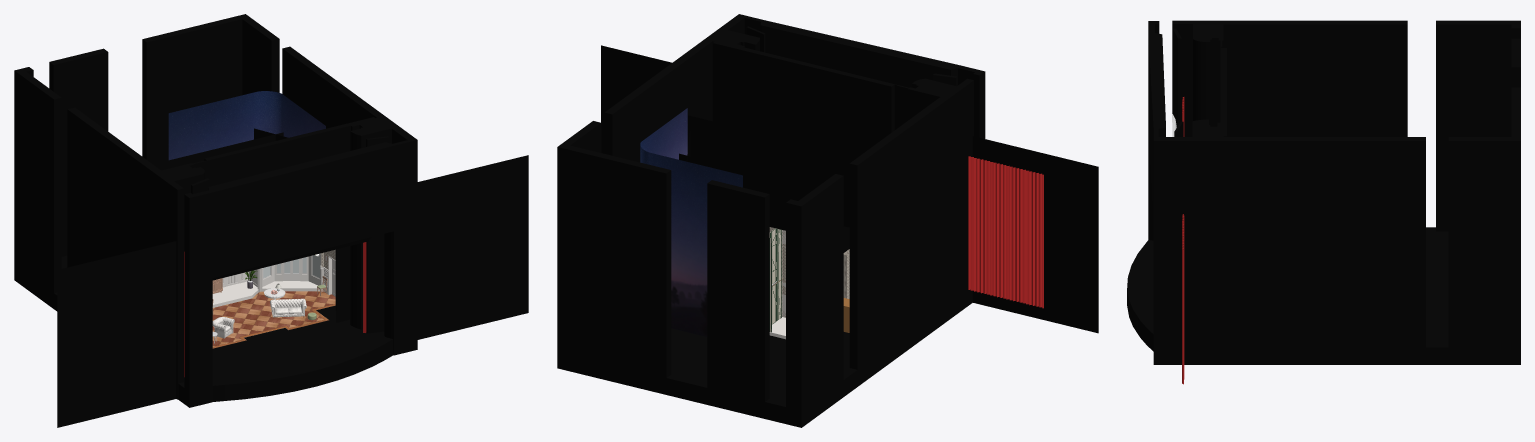
Rendered from Theater.glb.
3 renders of one model, left to right at view 1: azimuth 30°, elevation 25°; view 2: azimuth 150°, elevation 25°; view 3: azimuth 270°, elevation 25°, orthographic. The views are drawn at different scales.
Visible parts, largest first — view 1: Theater_Shell-col, Room_Structure-col, Stage_Floor-col, Backdrop_Courtyard, Room_Floor-col, Wall_Windows-col, Floor_Platform-col, Window_Courtyard-col, Sofa, Wall_10-col; view 2: Theater_Shell-col, Room_Structure-col, Curtain_Left, Stage_Floor-col, Backdrop_Courtyard; view 3: Theater_Shell-col, Room_Structure-col, Stage_Floor-col, Curtain_Right.
Part boxes in pixels (x1,y1,x2,y2): Theater_Shell-col: [14, 14, 528, 427]; Room_Structure-col: [153, 117, 393, 310]; Stage_Floor-col: [14, 255, 393, 407]; Backdrop_Courtyard: [168, 91, 325, 160]; Room_Floor-col: [212, 291, 335, 348]; Wall_Windows-col: [274, 256, 308, 281]; Floor_Platform-col: [212, 281, 258, 307]; Window_Courtyard-col: [262, 253, 321, 286]; Sofa: [270, 298, 306, 318]; Wall_10-col: [324, 249, 335, 296]; Theater_Shell-col: [557, 14, 1098, 427]; Room_Structure-col: [679, 20, 960, 332]; Curtain_Left: [968, 156, 1043, 308]; Stage_Floor-col: [557, 289, 972, 427]; Backdrop_Courtyard: [640, 108, 742, 336]; Theater_Shell-col: [1148, 20, 1520, 364]; Room_Structure-col: [1148, 33, 1352, 217]; Stage_Floor-col: [1127, 227, 1520, 364]; Curtain_Right: [1182, 214, 1184, 384].
Size of what is drawn, in the model's own units: 30.56 by 13 by 20.72.
Materials: 81 (53 with a texture image).
